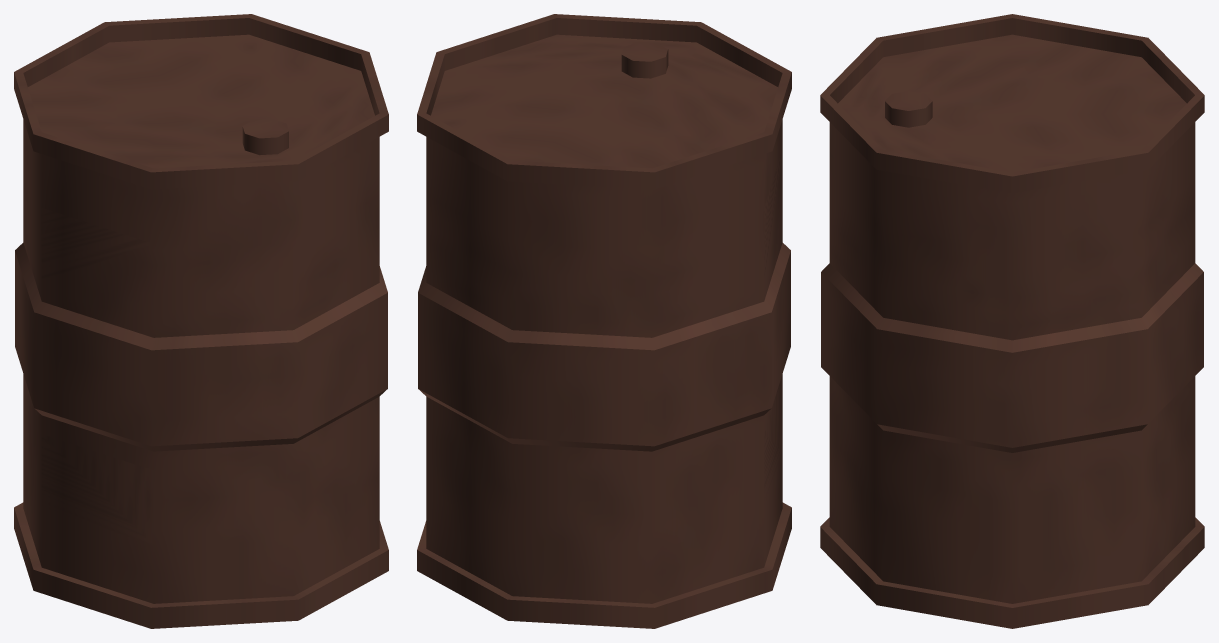
File: Bochka2.fbx
The picture shows the model from 3 angles, left to right: view 1: azimuth 30°, elevation 25°; view 2: azimuth 150°, elevation 25°; view 3: azimuth 270°, elevation 25°; orthographic projection.
Visible parts, largest first — view 1: Cylinder.010; view 2: Cylinder.010; view 3: Cylinder.010.
Boxes of the visible parts, x1=… form: Cylinder.010: x1=14, y1=14, x2=388, y2=628; Cylinder.010: x1=417, y1=14, x2=791, y2=628; Cylinder.010: x1=820, y1=14, x2=1204, y2=628.
Size of the model in its own units: 86.46 by 112 by 86.46.
